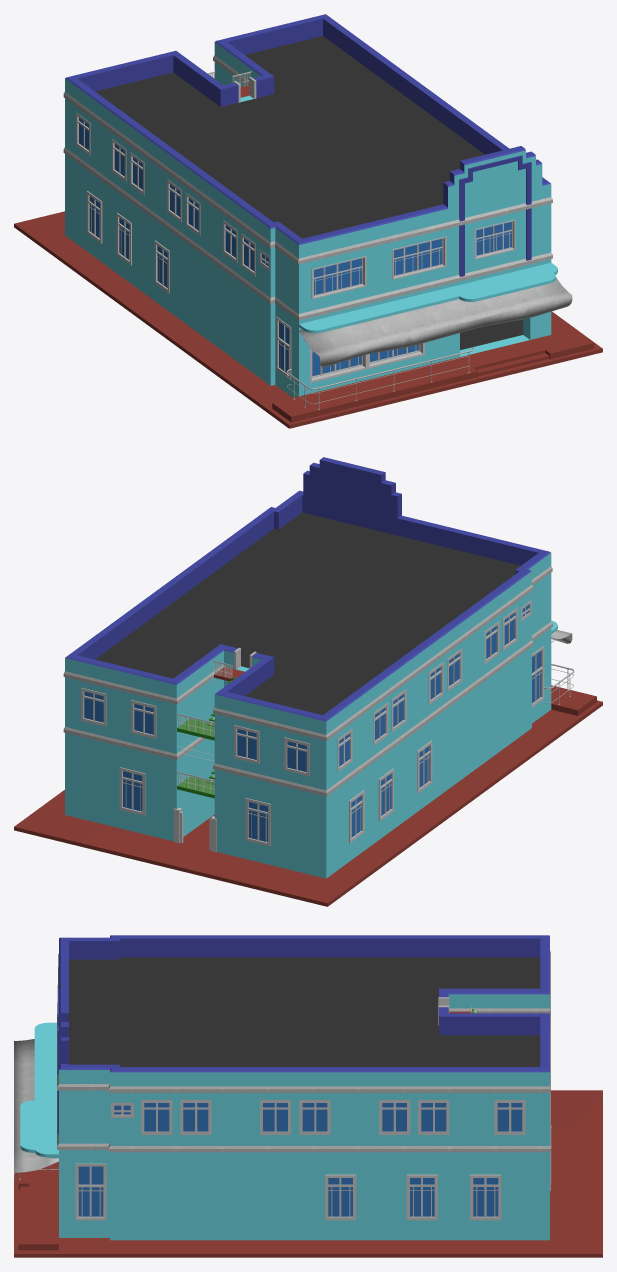
Rendered from Hotel_2.fbx.
3 views of the same model, one above another, from view 1: azimuth 30°, elevation 25°; view 2: azimuth 150°, elevation 25°; view 3: azimuth 270°, elevation 25° (orthographic). The views are drawn at different scales.
Parts seen in each view (by area): view 1: SM_Building2_Roof_Block, SM_Building2_Ground_Floor, SM_Building2_Suites_Block, SM_Tent2_Block, SM_Building2_Ground_Floor_inside, SM_border_Block; view 2: SM_Building2_Roof_Block, SM_Building2_Ground_Floor, SM_Building2_Suites_Block; view 3: SM_Building2_Roof_Block, SM_Building2_Ground_Floor, SM_Building2_Suites_Block, SM_Tent2_Block.
Part boxes in pixels (x1,y1,x2,y2): SM_Building2_Roof_Block: (63, 14, 552, 264); SM_Building2_Ground_Floor: (14, 154, 602, 428); SM_Building2_Suites_Block: (63, 62, 552, 320); SM_Tent2_Block: (299, 277, 572, 367); SM_Building2_Ground_Floor_inside: (460, 319, 523, 350); SM_border_Block: (286, 347, 474, 409); SM_Building2_Roof_Block: (63, 457, 552, 740); SM_Building2_Ground_Floor: (14, 620, 602, 906); SM_Building2_Suites_Block: (63, 573, 552, 796); SM_Building2_Roof_Block: (57, 935, 550, 1092); SM_Building2_Ground_Floor: (14, 1022, 602, 1257); SM_Building2_Suites_Block: (57, 1009, 550, 1152); SM_Tent2_Block: (14, 1039, 58, 1181).
Size of the model in its own units: 1989 by 1352 by 3024.
